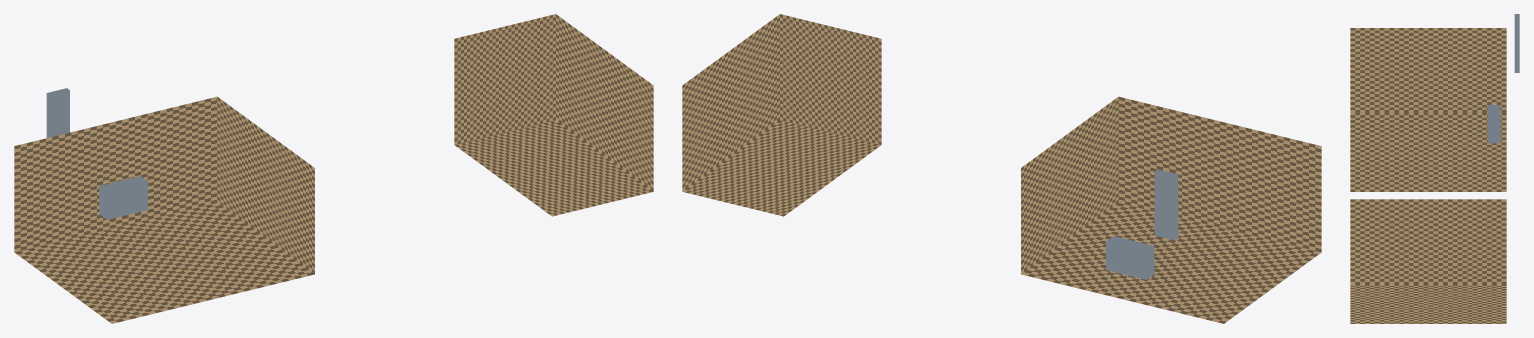
Rendered from _sample-choufli-hal.glb.
The picture shows the model from 3 angles, left to right: view 1: azimuth 30°, elevation 25°; view 2: azimuth 150°, elevation 25°; view 3: azimuth 270°, elevation 25°; orthographic projection. The views are drawn at different scales.
Visible parts, largest first — view 1: main_room, corridor_room, main_tv, sliman_placeholder; view 2: main_room, corridor_room, main_tv, sliman_placeholder; view 3: main_room, corridor_room, main_tv, sliman_placeholder.
Part boxes in pixels (x1,y1,x2,y2): main_room: (14, 96, 314, 323); corridor_room: (454, 14, 653, 216); main_tv: (99, 176, 147, 219); sliman_placeholder: (46, 88, 69, 137); main_room: (1021, 96, 1321, 323); corridor_room: (682, 14, 881, 216); main_tv: (1106, 236, 1154, 279); sliman_placeholder: (1154, 169, 1178, 240); main_room: (1350, 28, 1506, 191); corridor_room: (1350, 199, 1506, 323); main_tv: (1487, 105, 1500, 143); sliman_placeholder: (1514, 14, 1519, 72).
Bounding box in the file's own units: 16 × 4.05 × 5.42.
Materials: 2 (1 with a texture image).
